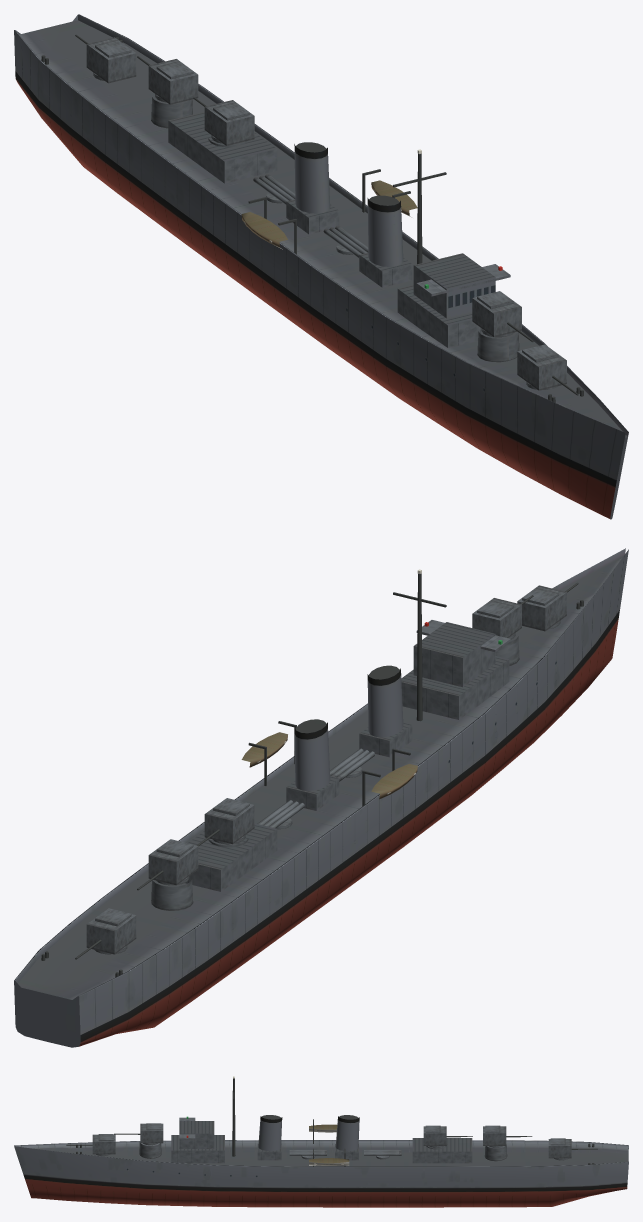
File: escort.glb
3 views of the same model, one above another, from view 1: azimuth 30°, elevation 25°; view 2: azimuth 150°, elevation 25°; view 3: azimuth 270°, elevation 25° (orthographic). The views are drawn at different scales.
Parts seen in each view (by area): view 1: hull, turret_5, turret_3, turret_4, turret_2, turret_1, boat_right; view 2: hull, turret_4, turret_5, turret_3, turret_1, turret_2, boat_right, boat_left; view 3: hull, turret_2, turret_3, turret_4, turret_1, turret_5, boat_left, boat_right.
Part boxes in pixels (x1,y1,x2,y2): hull: (14, 14, 628, 519); turret_5: (86, 37, 136, 83); turret_3: (204, 100, 254, 145); turret_4: (148, 59, 198, 104); turret_2: (472, 291, 521, 337); turret_1: (517, 344, 566, 390); boat_right: (241, 212, 287, 249); hull: (14, 548, 628, 1047); turret_4: (148, 839, 198, 885); turret_5: (86, 908, 136, 954); turret_3: (204, 798, 254, 844); turret_1: (517, 585, 566, 631); turret_2: (472, 598, 521, 639); boat_right: (371, 764, 417, 799); boat_left: (241, 732, 287, 767); hull: (14, 1076, 628, 1207); turret_2: (140, 1123, 163, 1145); turret_3: (423, 1125, 446, 1147); turret_4: (483, 1125, 506, 1147); turret_1: (92, 1134, 115, 1156); turret_5: (548, 1138, 571, 1160); boat_left: (309, 1158, 349, 1165); boat_right: (309, 1124, 337, 1132).
Size of the model in its own units: 17.05 by 25.02 by 115.
5 materials, 5 textured.
